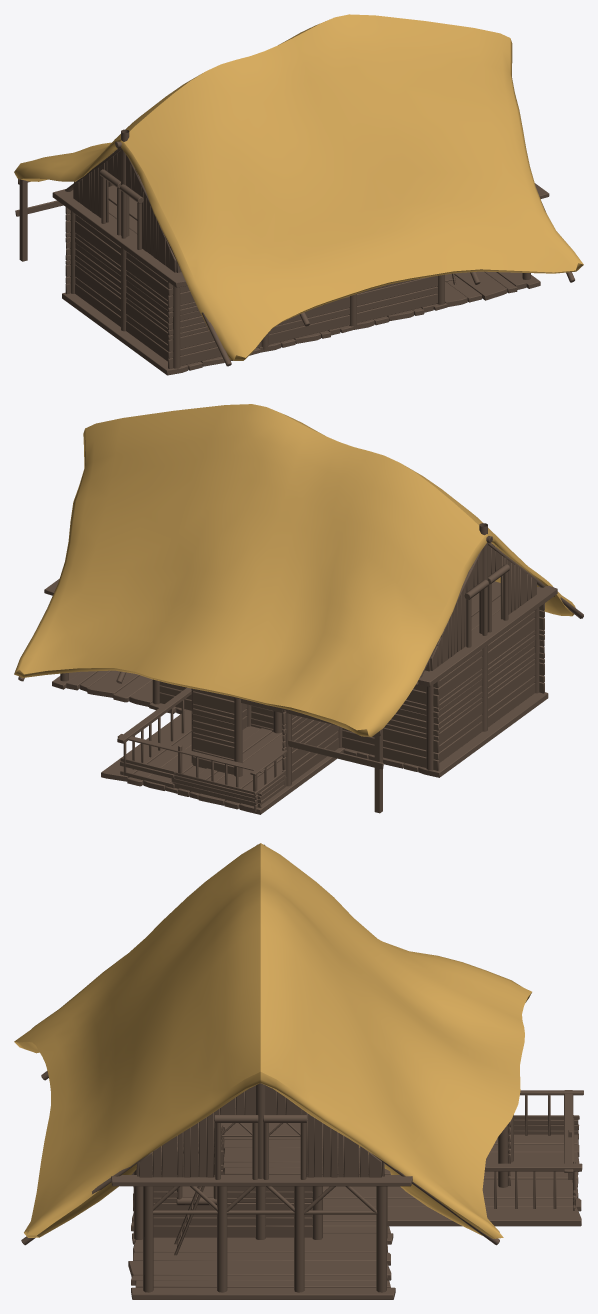
The model's file is -LOD0_p_hut_001.fbx.
3 renders of one model, top to bottom at view 1: azimuth 30°, elevation 25°; view 2: azimuth 150°, elevation 25°; view 3: azimuth 270°, elevation 25°, orthographic. The views are drawn at different scales.
Visible parts, largest first — view 1: Cylinder.000, Cylinder.006; view 2: Cylinder.000, Cylinder.006; view 3: Cylinder.000, Cylinder.006.
Boxes of the visible parts, x1=… form: Cylinder.000: x1=14, y1=14, x2=583, y2=360; Cylinder.006: x1=15, y1=129, x2=574, y2=375; Cylinder.000: x1=14, y1=404, x2=575, y2=736; Cylinder.006: x1=18, y1=523, x2=583, y2=814; Cylinder.000: x1=14, y1=843, x2=531, y2=1238; Cylinder.006: x1=21, y1=844, x2=583, y2=1299.
Bounding box in the file's own units: 1802 × 1154 × 1874.
